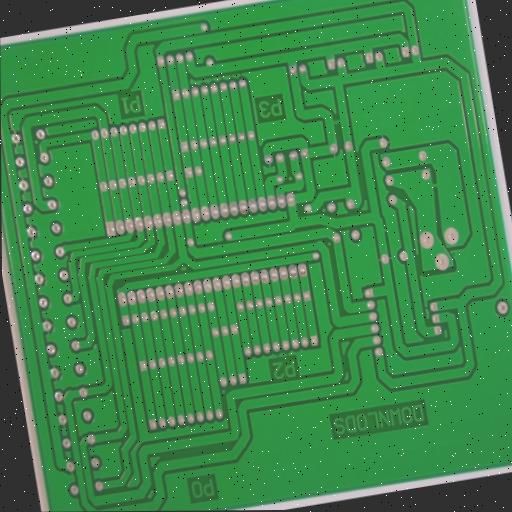short_circuit: (325, 106, 350, 134), (423, 171, 447, 199), (374, 215, 398, 243)
